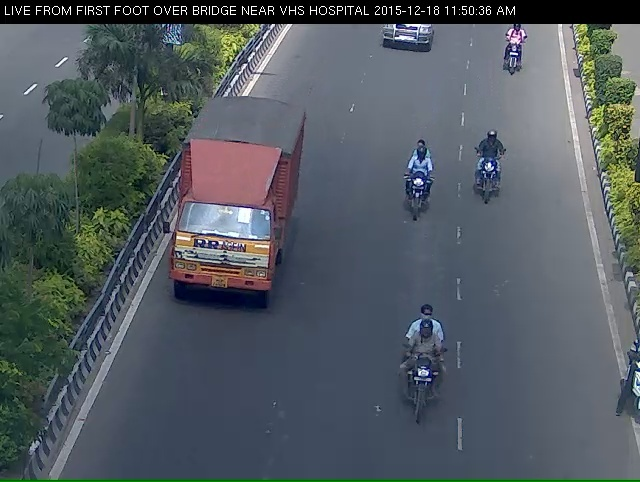Bus: (168, 98, 278, 321)
Car: (372, 23, 437, 63)
Person: (396, 341, 444, 443), (467, 144, 506, 218), (397, 149, 432, 230), (501, 26, 528, 78)
